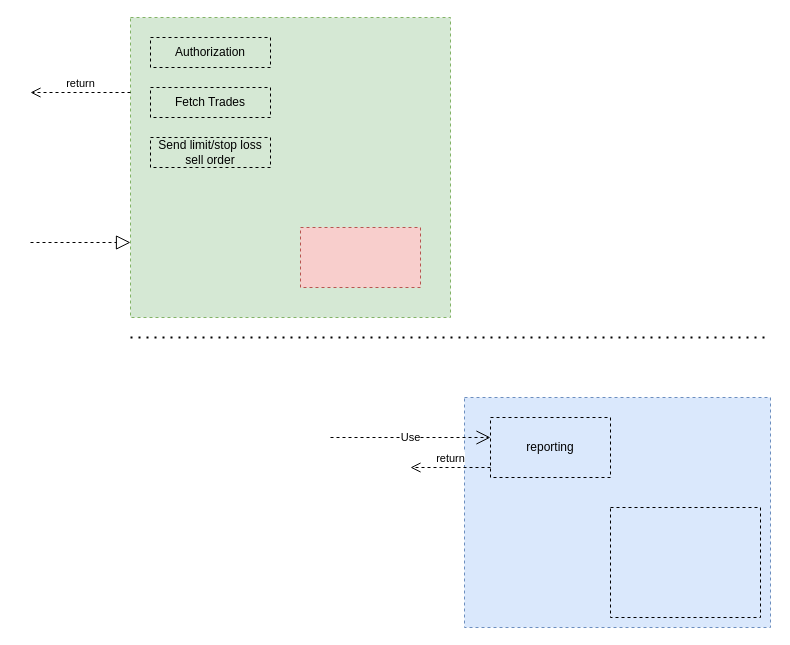
The diagram is 790 pixels wide and 645 high, and some of its shapes have lost their labels. The shapes that lost their labels are listed below. From the top down, each one's box as (x1, y1, x2, y2) in pixels, then its label:
(300, 226, 420, 288): TBD
(610, 506, 760, 618): purchase records
